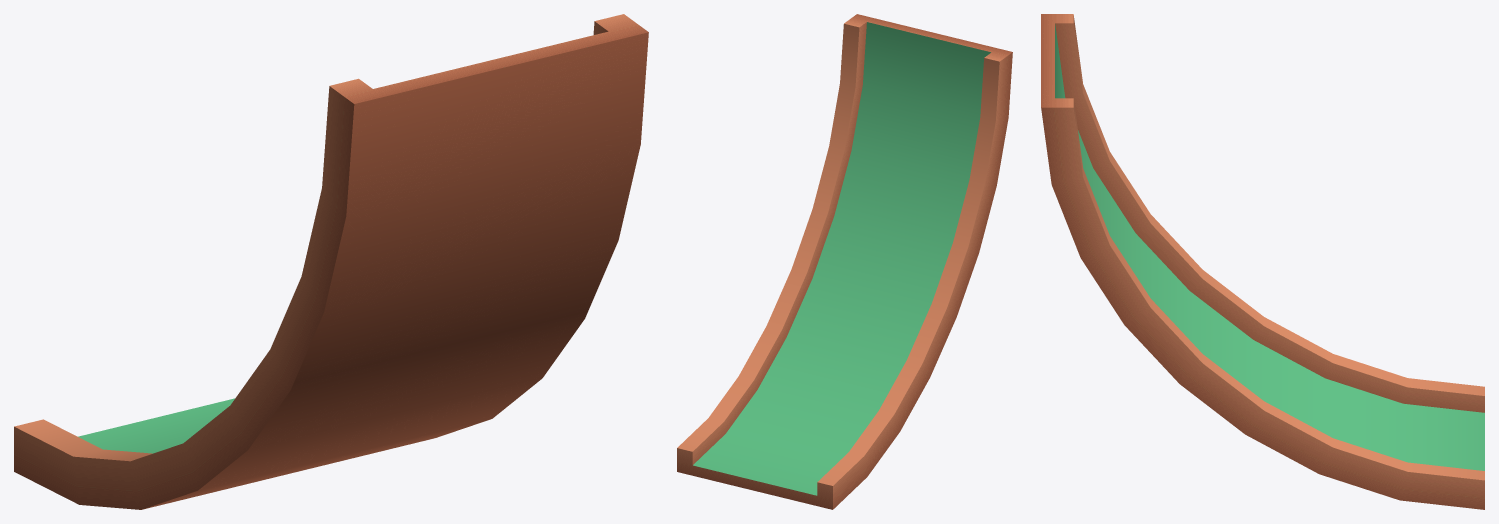
File: spline_default_straight_bend.glb
3 views of the same model, side by side, from view 1: azimuth 30°, elevation 25°; view 2: azimuth 150°, elevation 25°; view 3: azimuth 270°, elevation 25° (orthographic). The views are drawn at different scales.
Visible parts, largest first — view 1: spline-default-straight-bend; view 2: spline-default-straight-bend; view 3: spline-default-straight-bend.
Boxes of the visible parts, <box> form: spline-default-straight-bend: <box>14,14,648,509</box>; spline-default-straight-bend: <box>677,14,1012,509</box>; spline-default-straight-bend: <box>1041,14,1484,509</box>.
Bounding box in the file's own units: 0.9999 × 2 × 2.
1 material, 1 textured.
